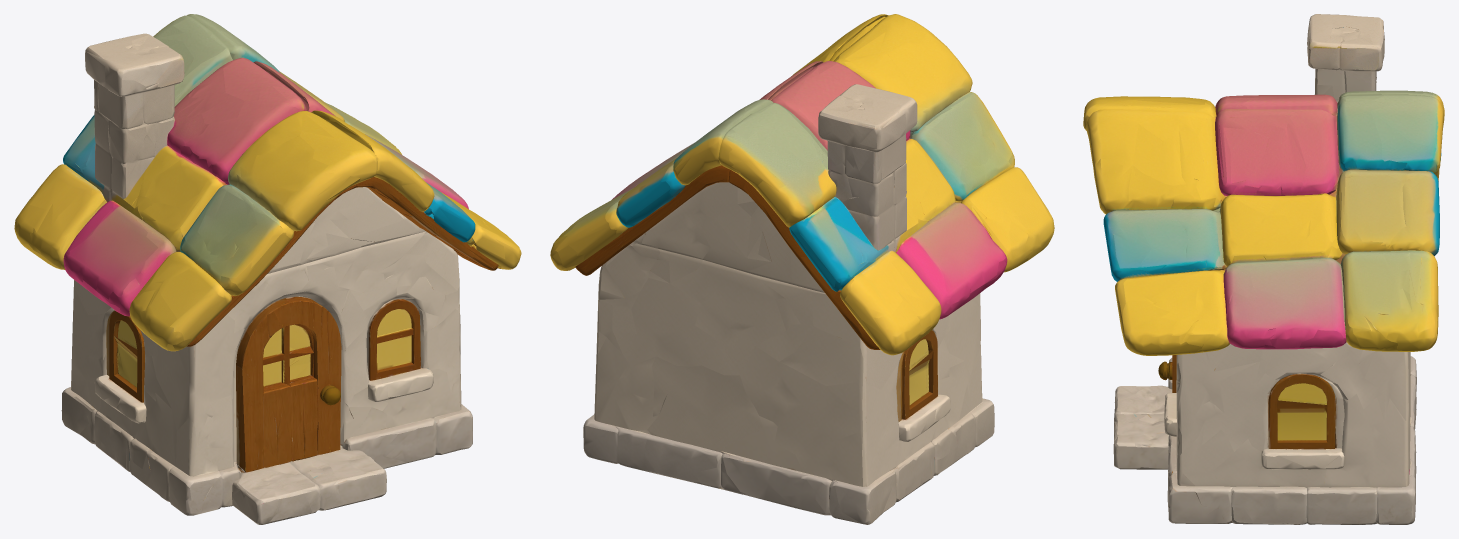
File: island-cottage-v1.glb
3 views of the same model, side by side, from view 1: azimuth 30°, elevation 25°; view 2: azimuth 150°, elevation 25°; view 3: azimuth 270°, elevation 25° (orthographic). The views are drawn at different scales.
Visible parts, largest first — view 1: IslandCottage; view 2: IslandCottage; view 3: IslandCottage.
Part boxes in pixels (x1,y1,x2,y2): IslandCottage: (14, 14, 521, 524); IslandCottage: (550, 14, 1054, 524); IslandCottage: (1083, 14, 1444, 524).
Size of the model in its own units: 2.88 by 3 by 2.6.
1 material, 1 textured.
